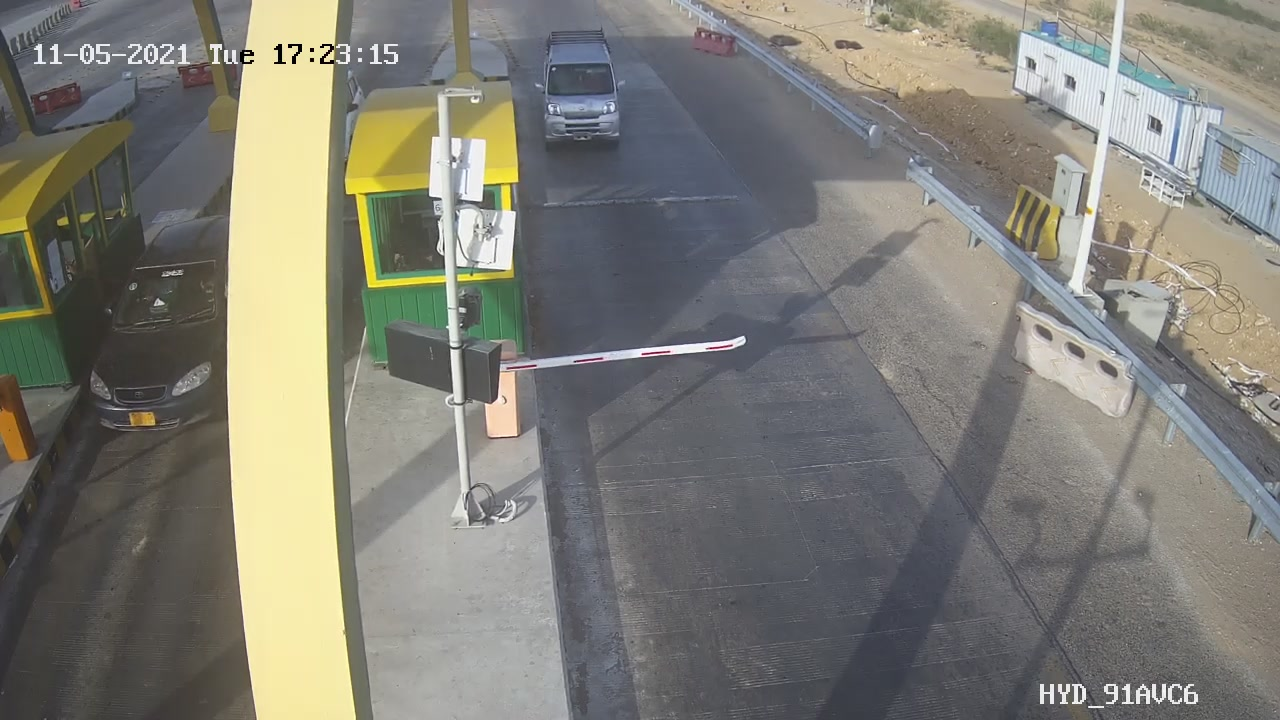F1: (525, 18, 638, 160)
